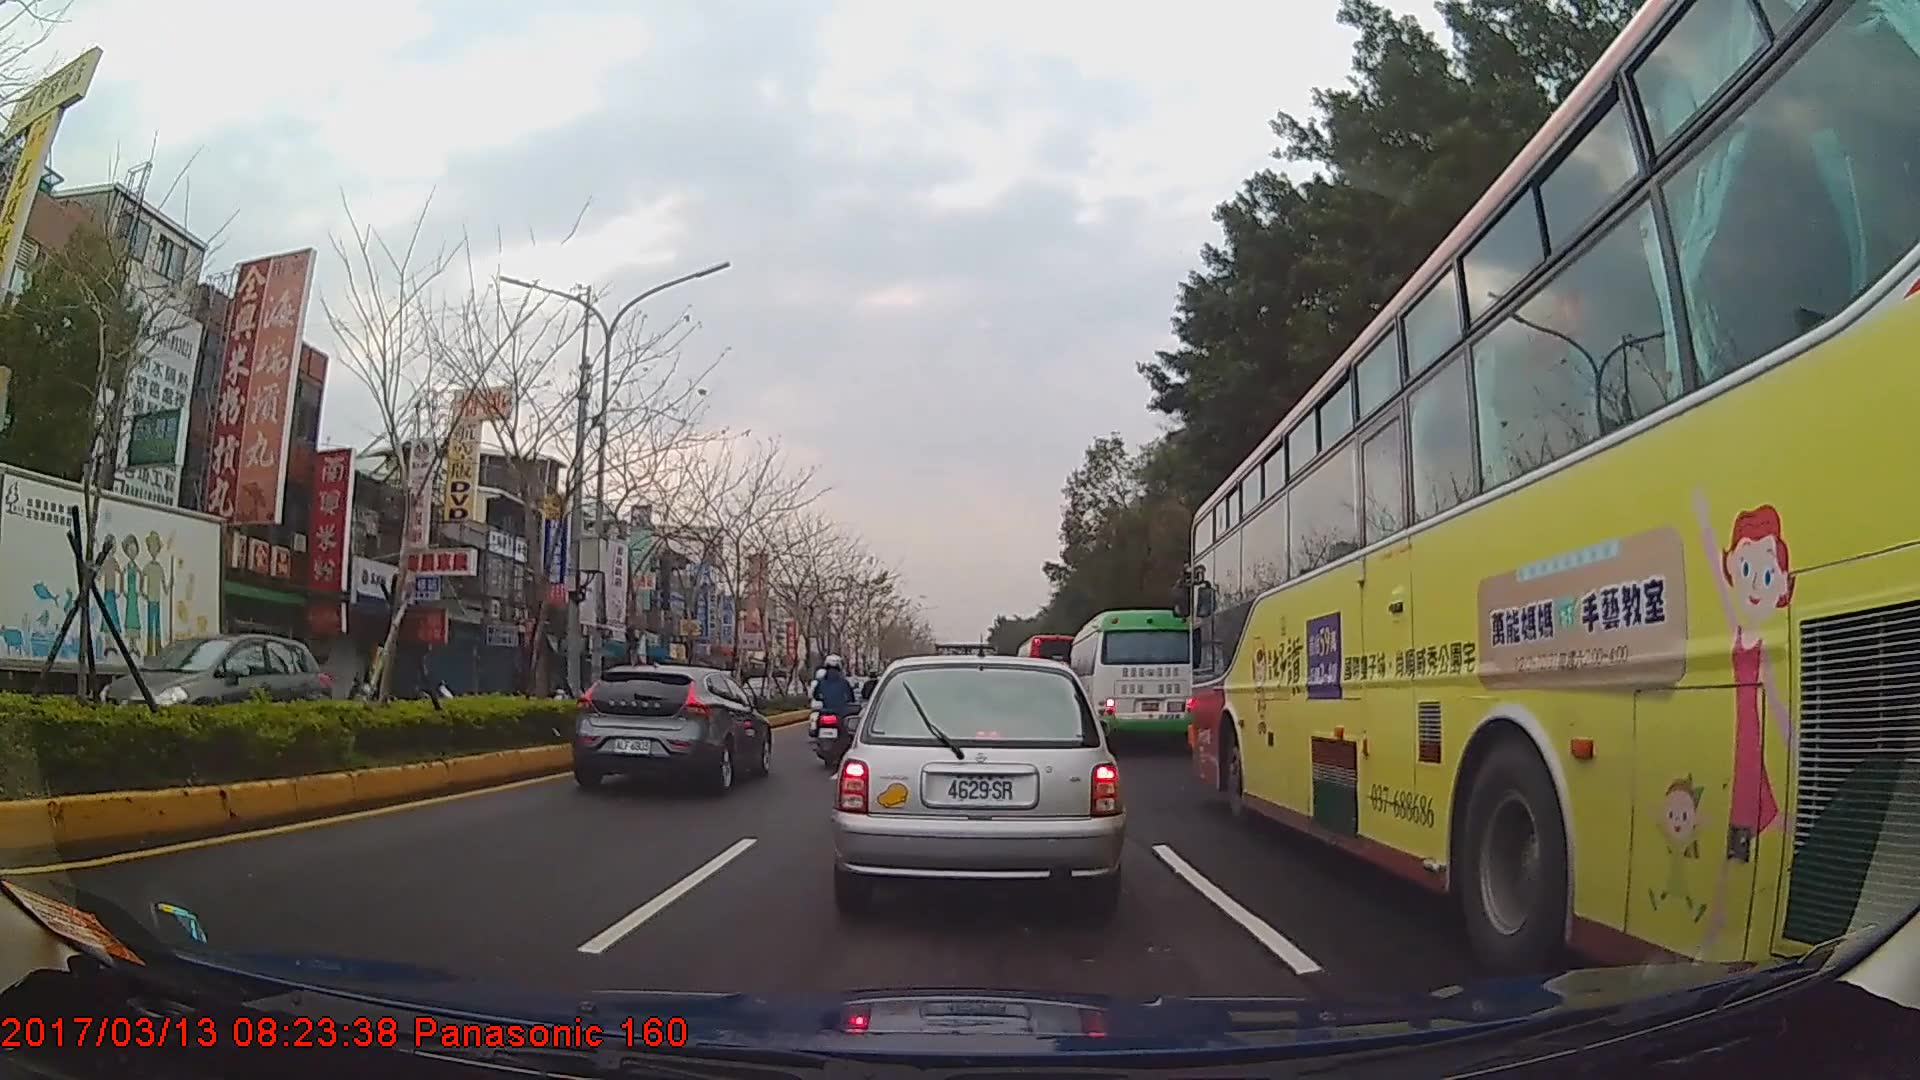rider: (813, 654, 859, 754)
vehicle: (1185, 0, 1920, 1029), (832, 650, 1123, 919), (0, 465, 225, 736), (92, 631, 324, 750), (570, 661, 774, 795), (1066, 607, 1198, 750), (1014, 631, 1083, 706)
